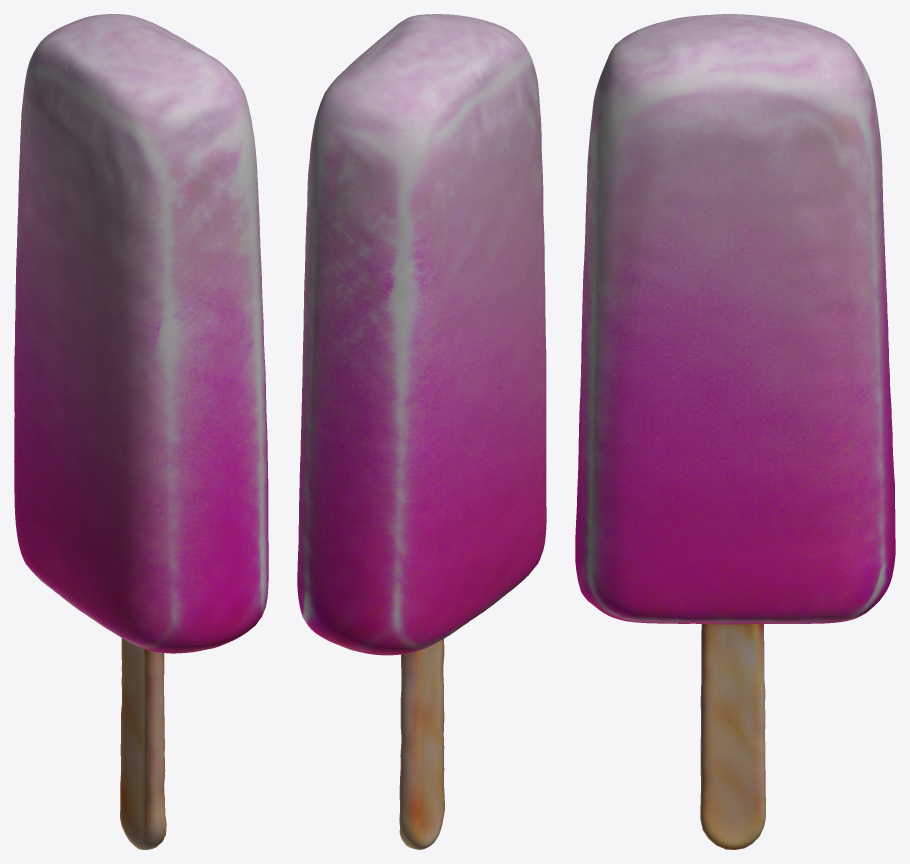
The model's file is Picole.fbx.
3 renders of one model, left to right at view 1: azimuth 30°, elevation 25°; view 2: azimuth 150°, elevation 25°; view 3: azimuth 270°, elevation 25°, orthographic.
Parts seen in each view (by area): view 1: mesh; view 2: mesh; view 3: mesh.
Boxes of the visible parts, left/top/right/bottom form: mesh: left=14, top=14, right=268, bottom=849; mesh: left=297, top=14, right=546, bottom=849; mesh: left=575, top=14, right=895, bottom=849.
Size of the model in its own units: 20.12 by 99.97 by 35.58.
